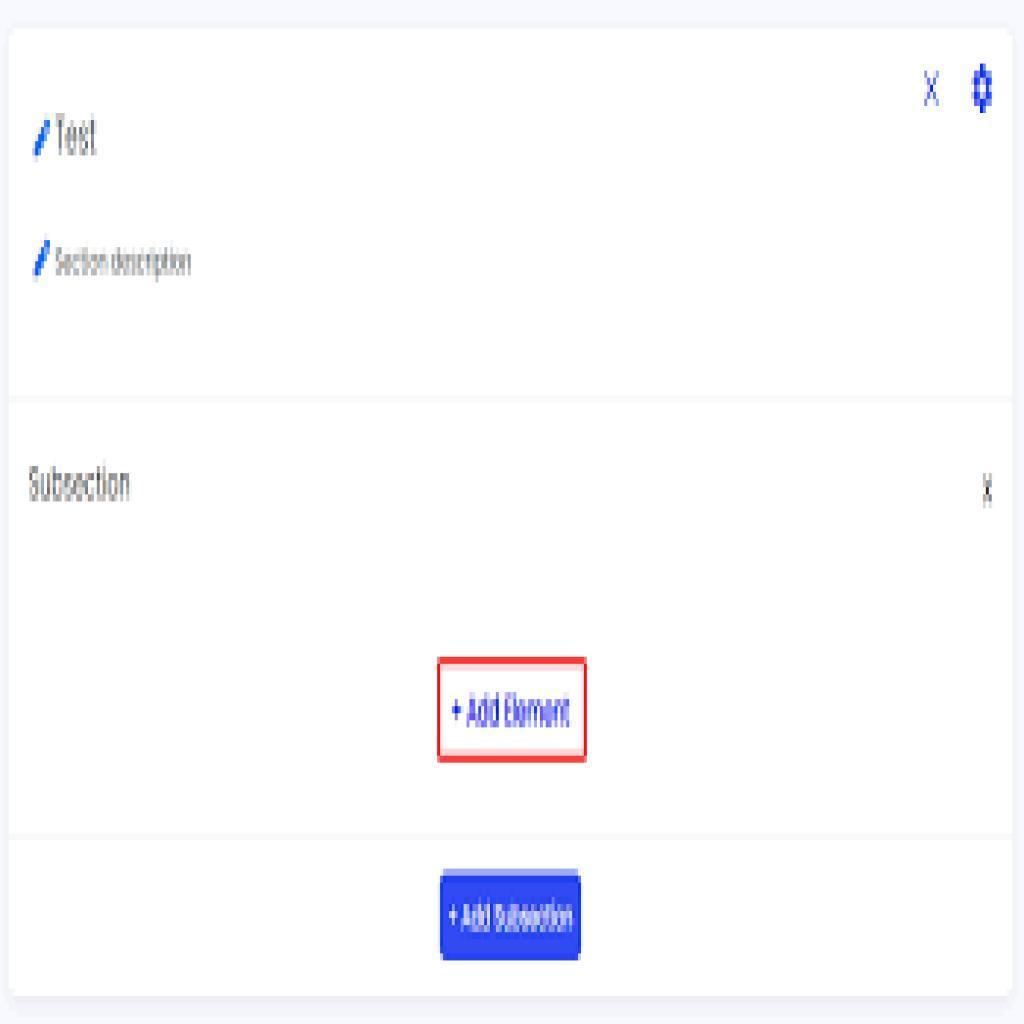button: (437, 657, 588, 758), (440, 871, 583, 962)
icon: (966, 50, 1003, 116), (915, 61, 947, 119), (25, 235, 56, 287), (26, 110, 53, 168)
